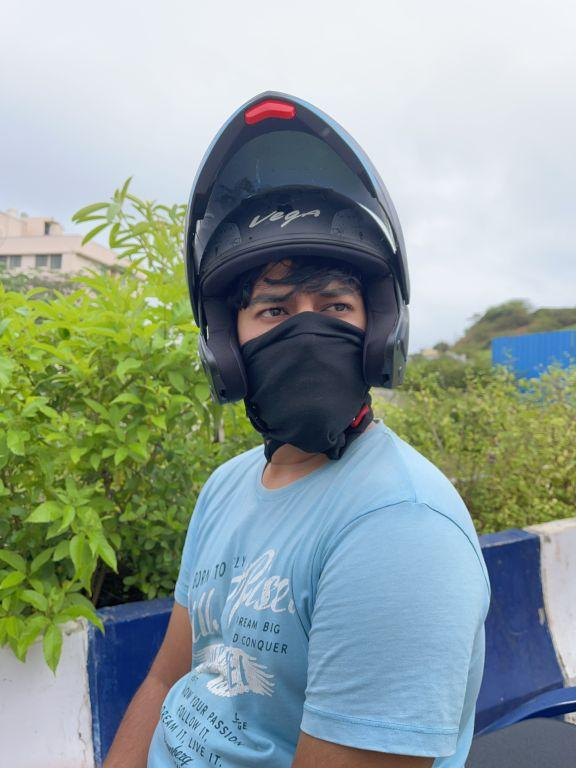helmet: (175, 79, 417, 427)
